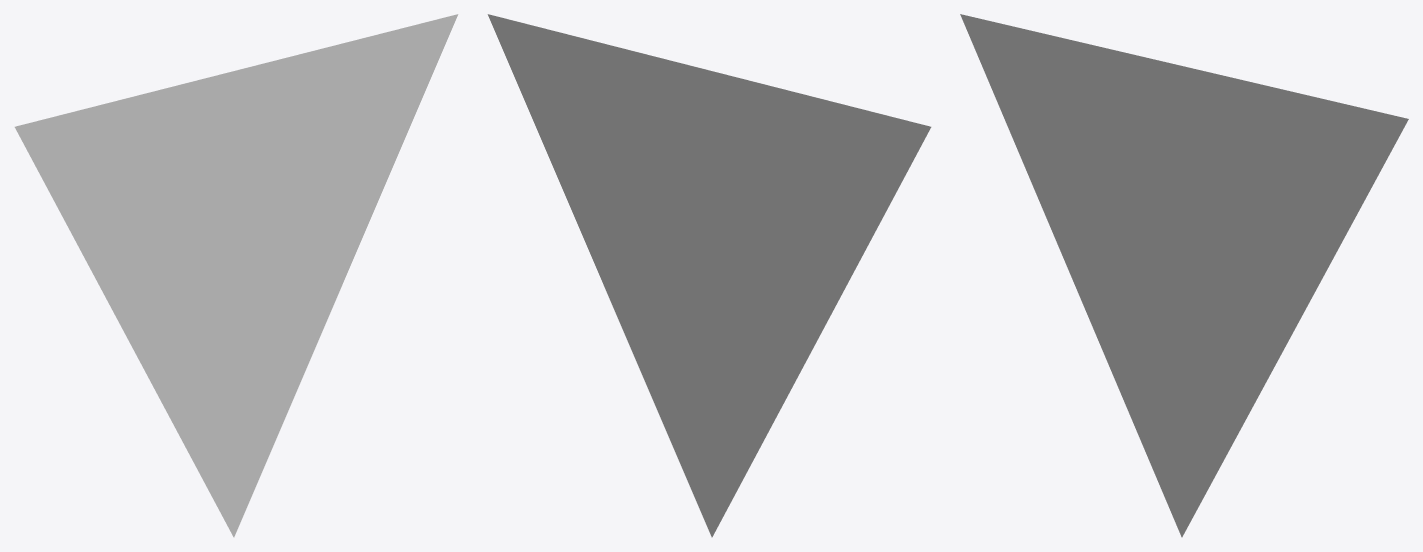
The model's file is Lift_Down.fbx.
3 renders of one model, left to right at view 1: azimuth 30°, elevation 25°; view 2: azimuth 150°, elevation 25°; view 3: azimuth 330°, elevation 25°, orthographic.
Parts seen in each view (by area): view 1: Lift_Down; view 2: Lift_Down; view 3: Lift_Down.
Part boxes in pixels (bbox=[...]): Lift_Down: bbox=[14, 14, 458, 537]; Lift_Down: bbox=[487, 14, 931, 537]; Lift_Down: bbox=[960, 14, 1408, 537].
Bounding box in the file's own units: 142 × 144 × 0.
